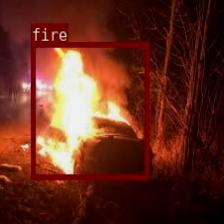fire: (30, 40, 148, 178)
